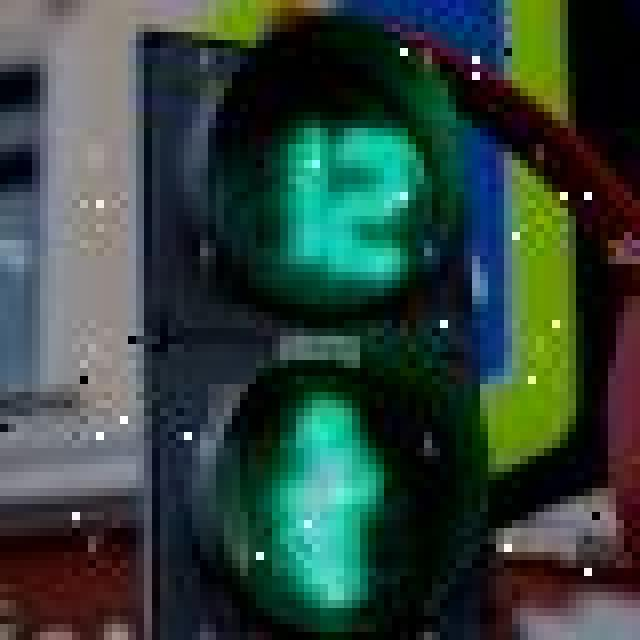greenlight: (173, 352, 484, 640)
